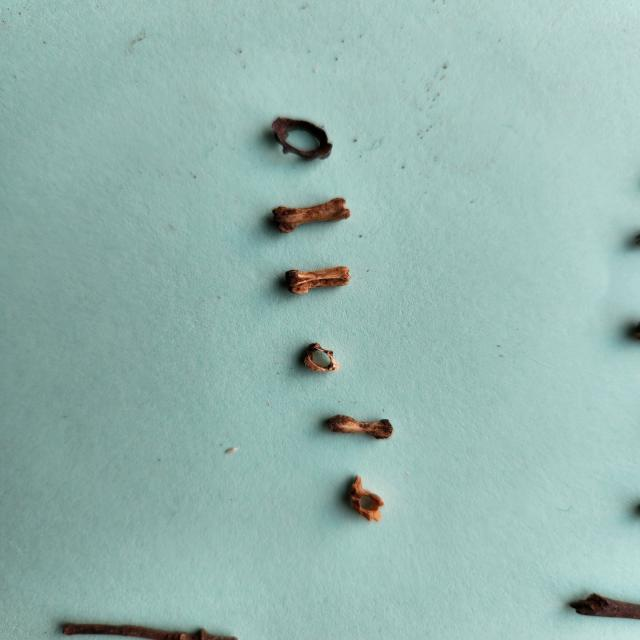fossil: (260, 108, 346, 172), (254, 192, 358, 240), (560, 583, 640, 636), (56, 619, 242, 640), (274, 258, 362, 300), (337, 472, 400, 527), (318, 407, 400, 446), (294, 338, 346, 377)
